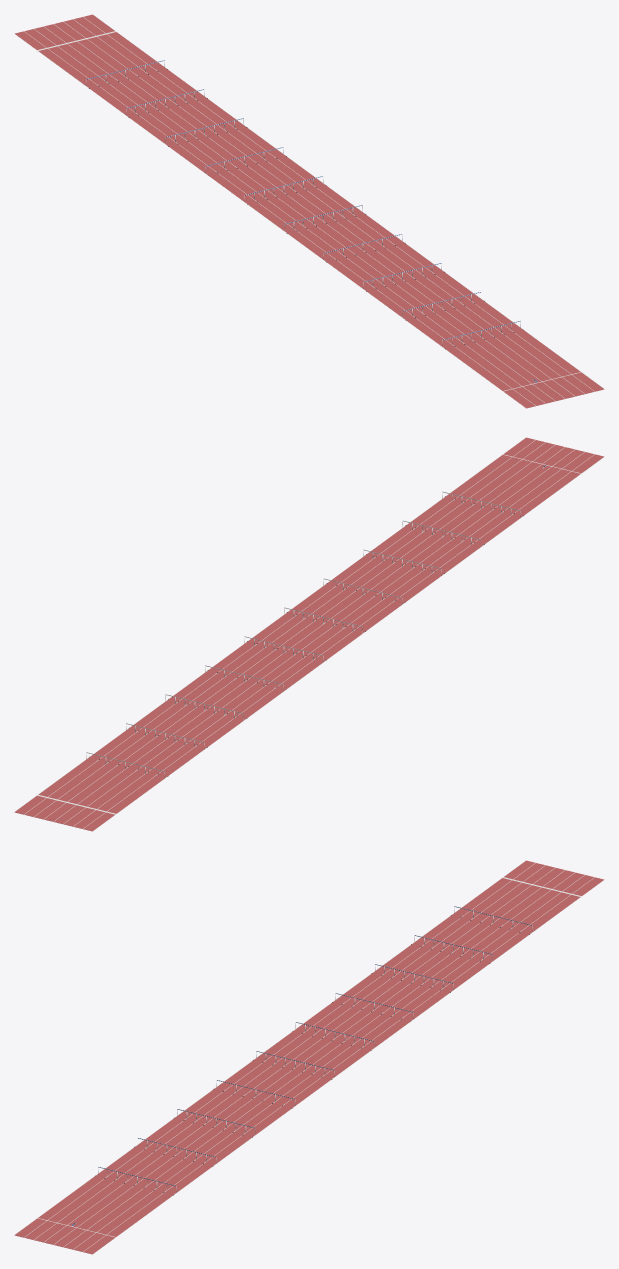
Rendered from Woman hurdles1.glb.
3 views of the same model, one above another, from view 1: azimuth 30°, elevation 25°; view 2: azimuth 150°, elevation 25°; view 3: azimuth 330°, elevation 25° (orthographic).
Visible parts, largest first — view 1: MetaAthletics_100m_Base, MetaAthletics_100m_Divider_0; view 2: MetaAthletics_100m_Base, MetaAthletics_100m_Divider_0; view 3: MetaAthletics_100m_Base, MetaAthletics_100m_Divider_8.
Part boxes in pixels (box(x1,y1,x2,y2)): MetaAthletics_100m_Base: box(15, 14, 604, 408); MetaAthletics_100m_Divider_0: box(14, 33, 525, 407); MetaAthletics_100m_Base: box(14, 437, 603, 831); MetaAthletics_100m_Divider_0: box(93, 456, 604, 830); MetaAthletics_100m_Base: box(14, 860, 603, 1254); MetaAthletics_100m_Divider_8: box(93, 879, 604, 1253).
Size of the model in its own units: 9.81 by 0.874 by 110.
